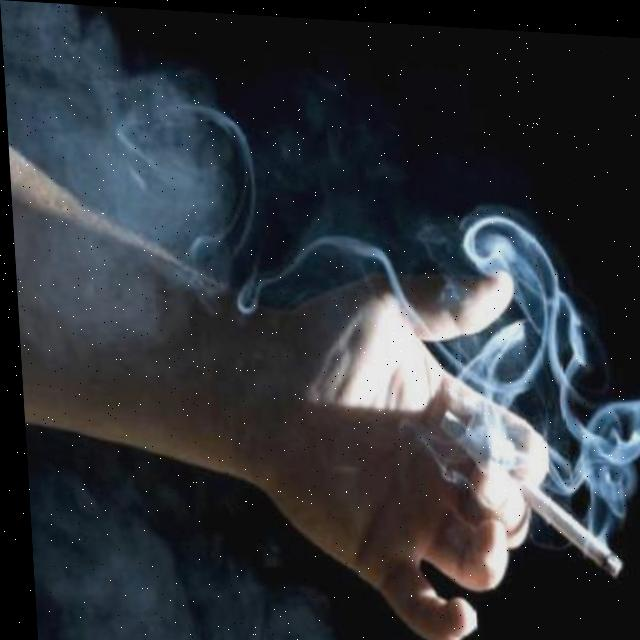cigarette: (498, 453, 616, 567)
